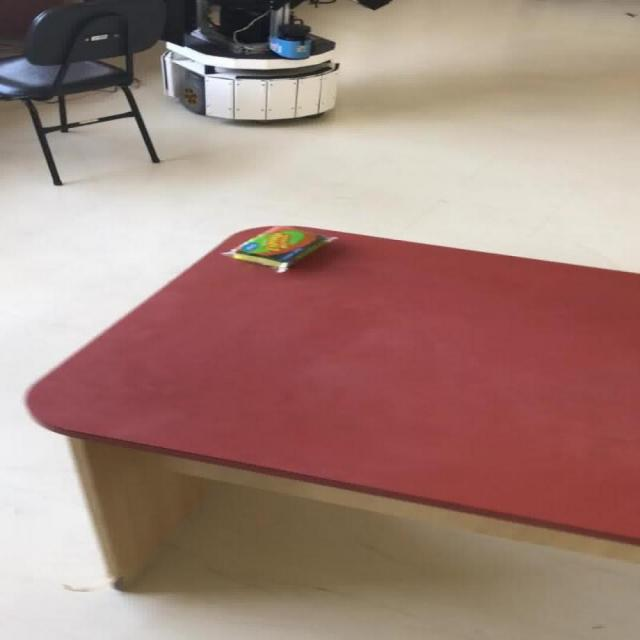Sponge: (218, 226, 338, 273)
